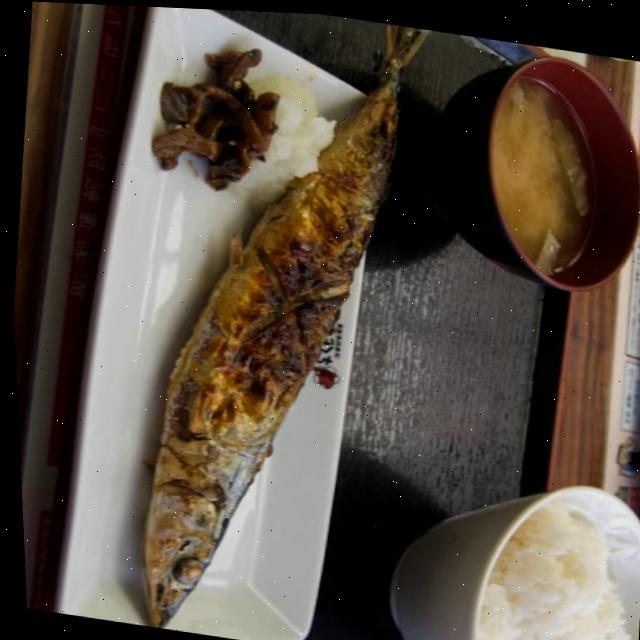熟制海鲜: (152, 5, 414, 640)
